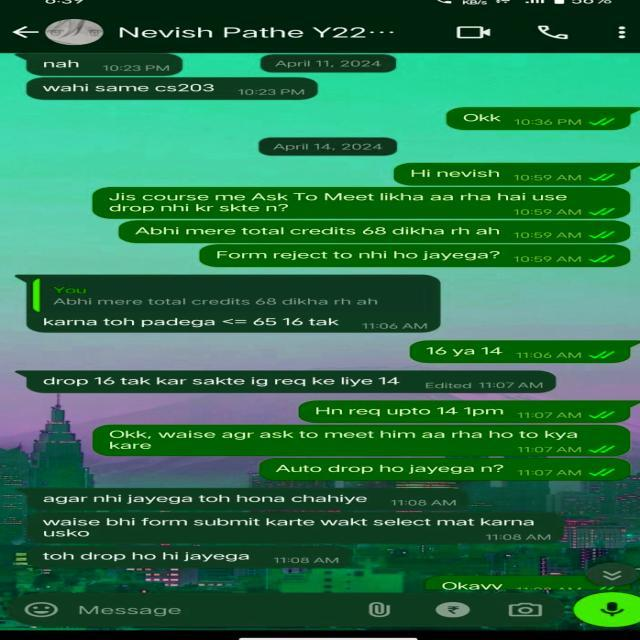scam: (24, 512, 564, 548), (21, 371, 556, 394), (24, 487, 476, 510), (25, 546, 352, 570), (26, 316, 442, 334), (26, 78, 320, 101), (18, 54, 186, 78)
